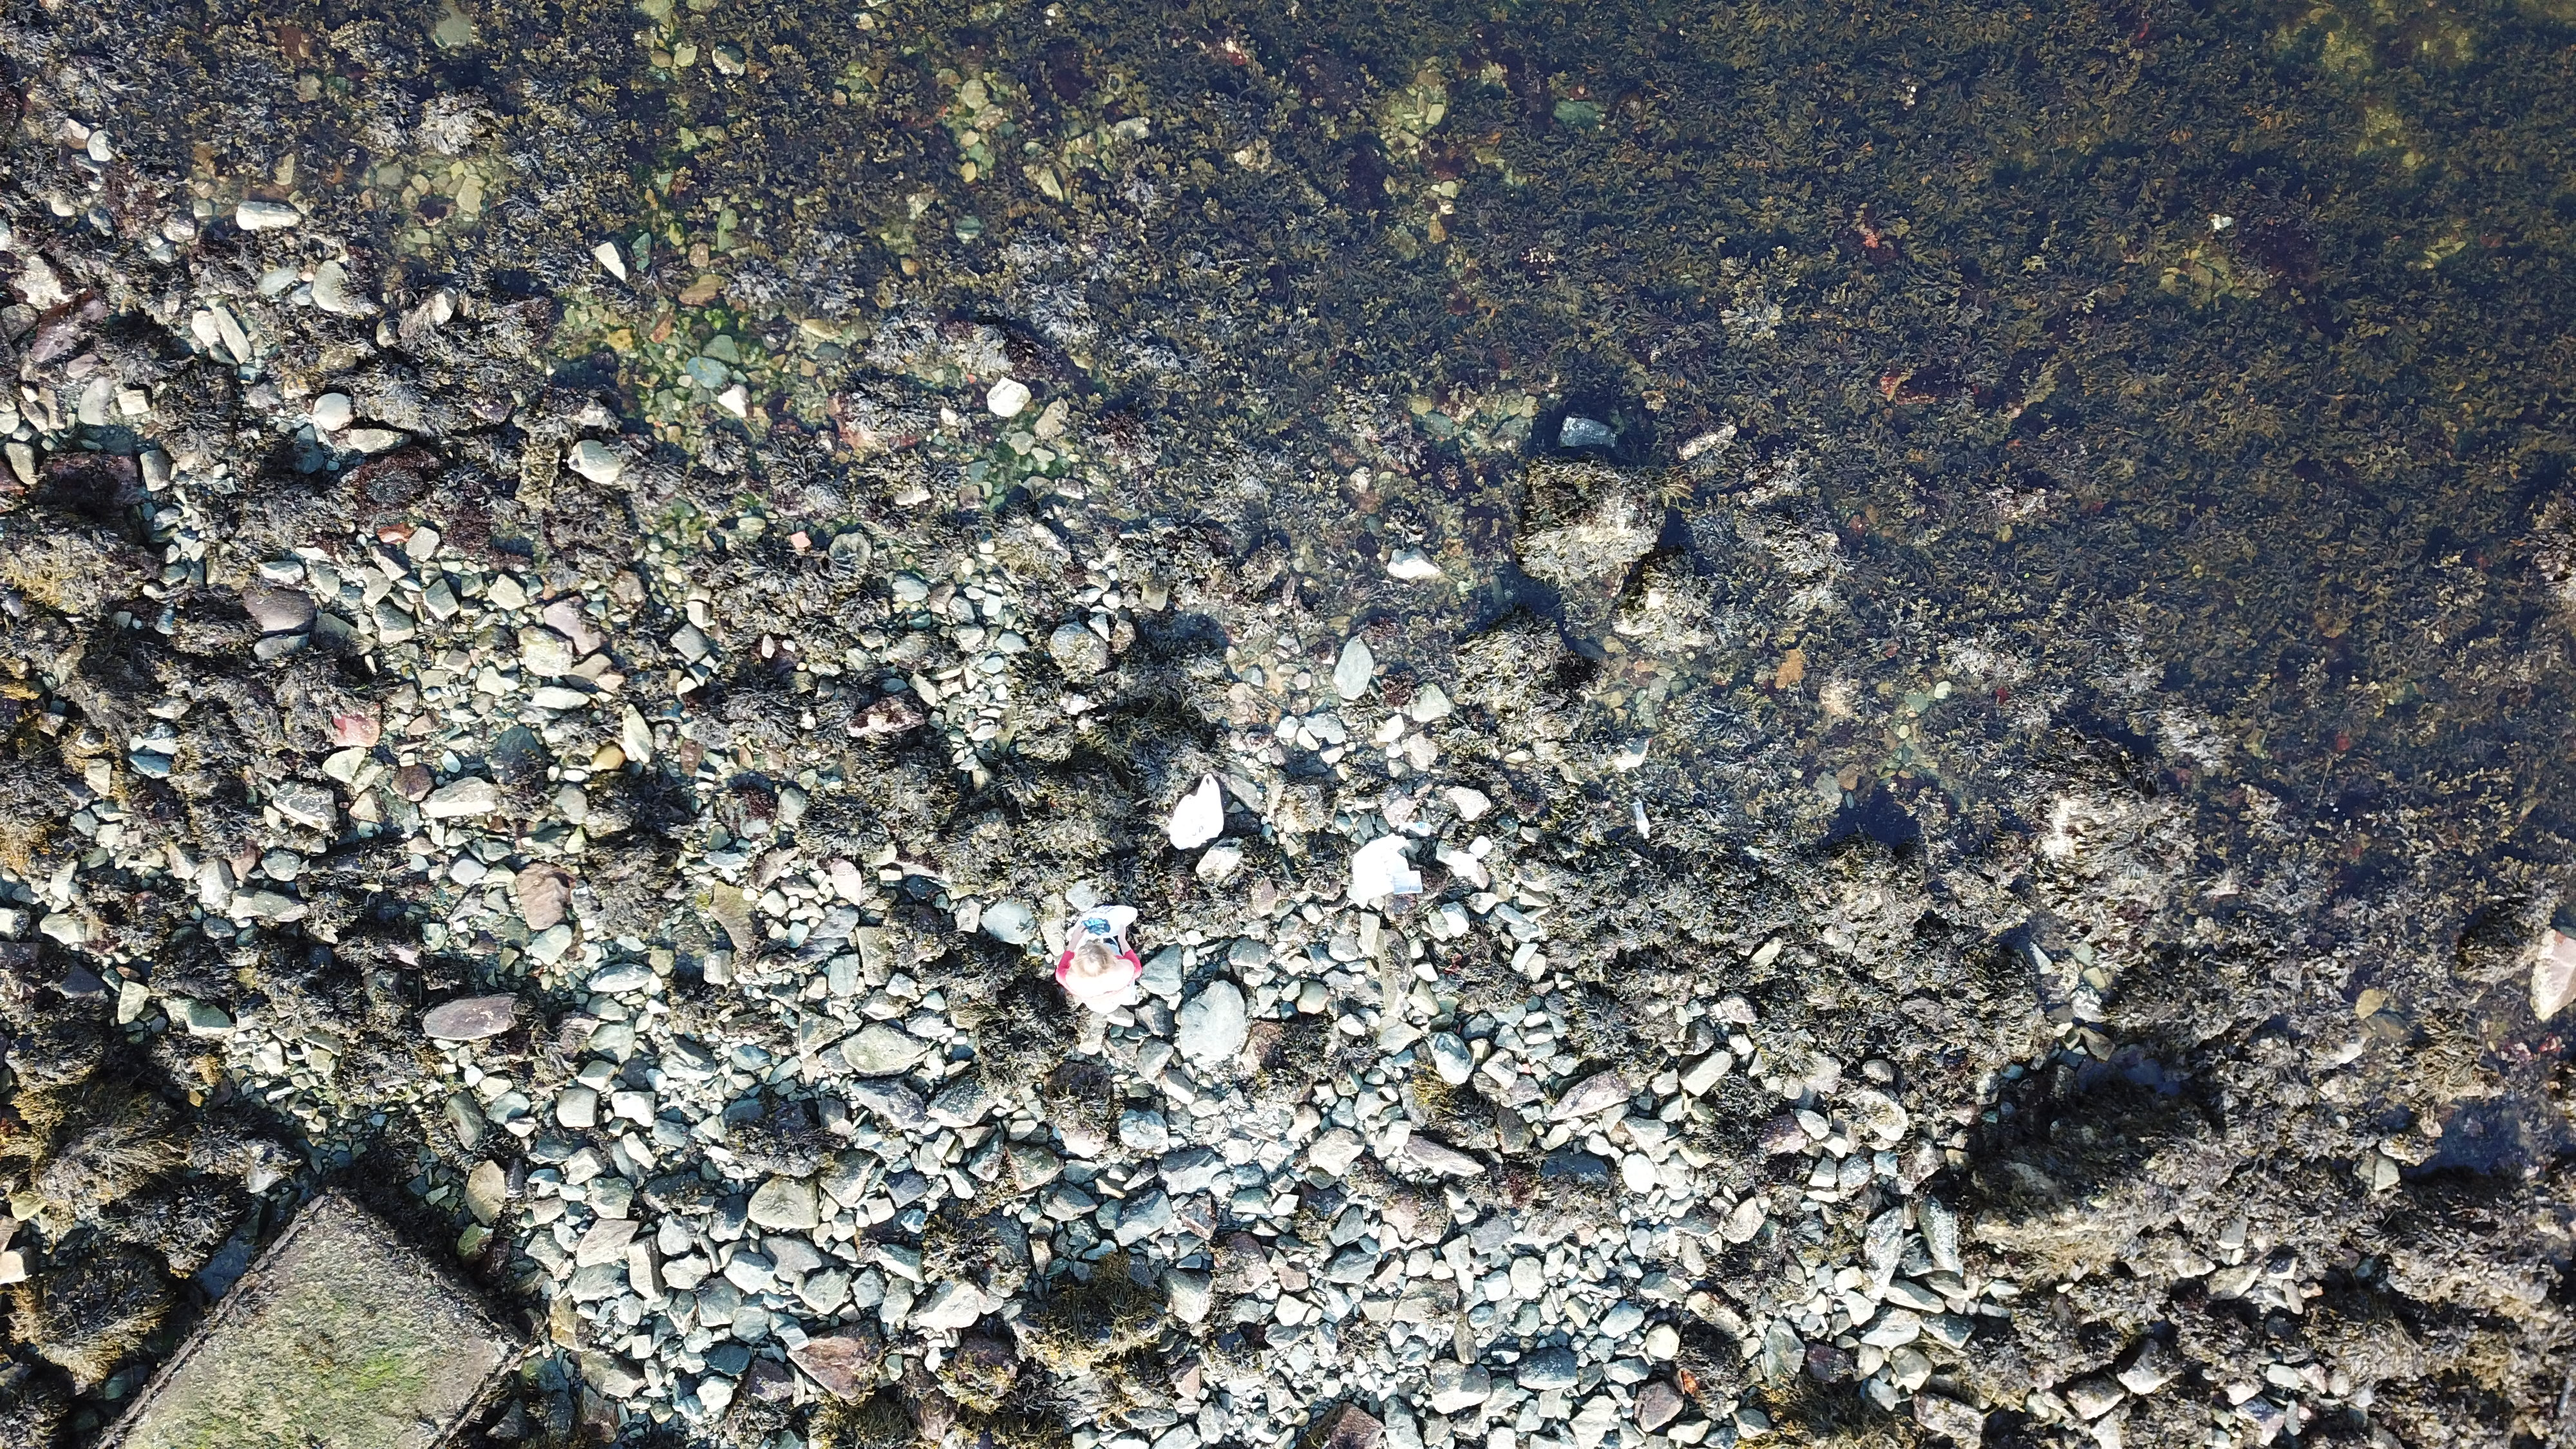Plastic: (1169, 771, 1224, 853), (1352, 832, 1408, 902), (1070, 906, 1138, 941), (1392, 869, 1426, 895), (1398, 817, 1433, 837)
PlasticBottle: (1633, 801, 1652, 839)
